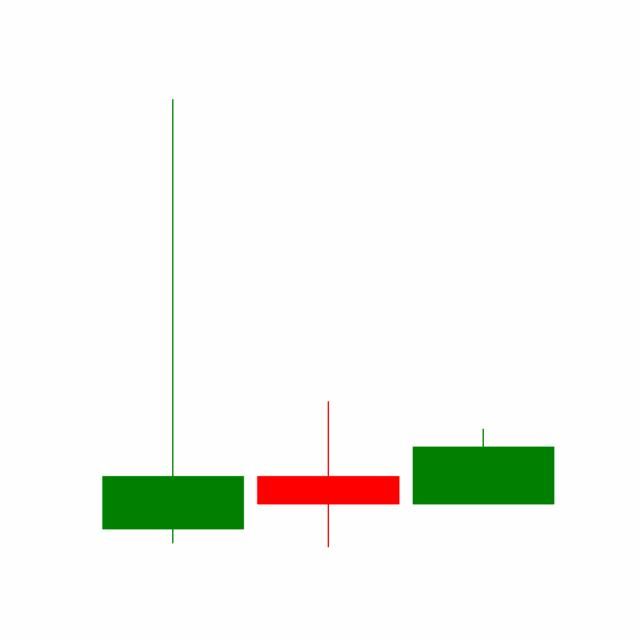Marubozu: (405, 428, 561, 506)
